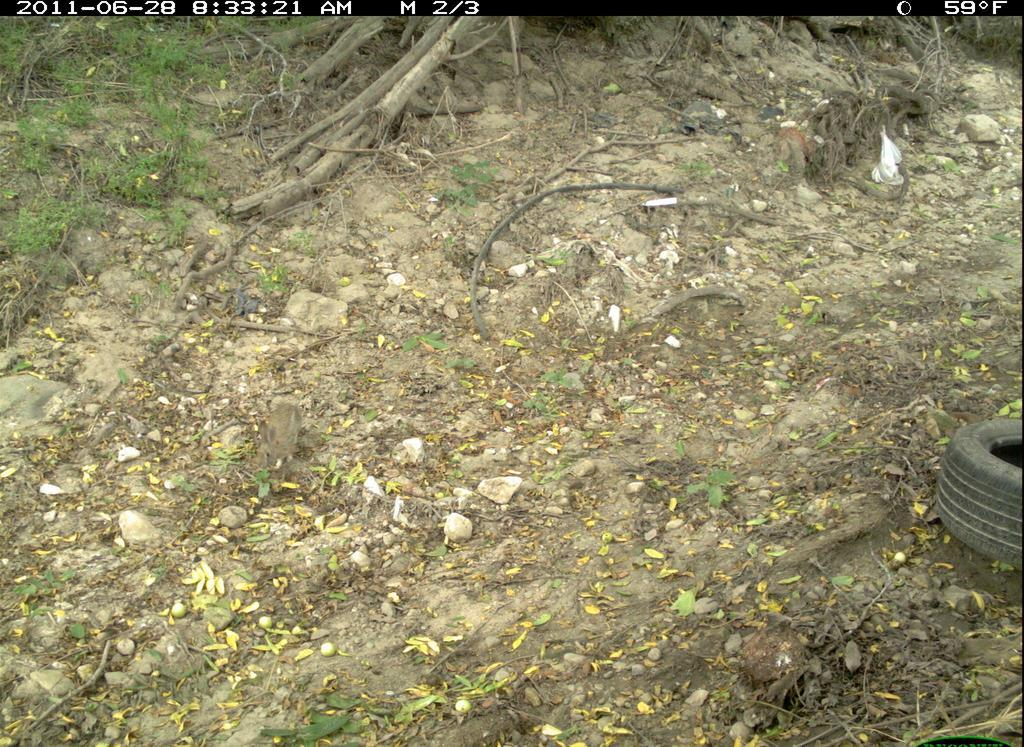rabbit: (250, 401, 317, 485)
